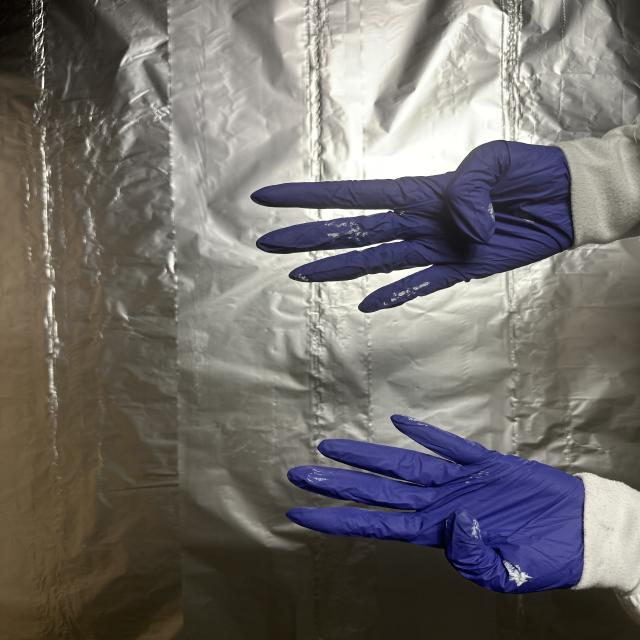gloves_contaminated: (252, 140, 573, 312), (287, 414, 585, 594)
